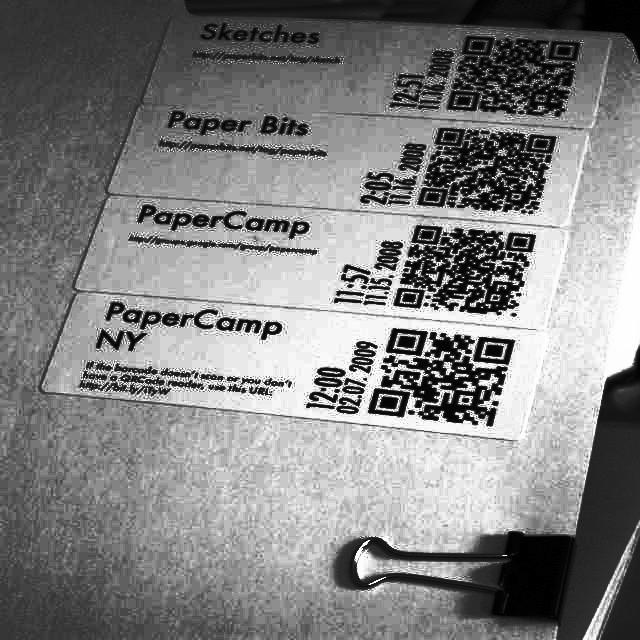qr_code: (368, 329, 514, 426), (394, 226, 535, 317), (418, 128, 556, 214), (448, 36, 580, 116)
